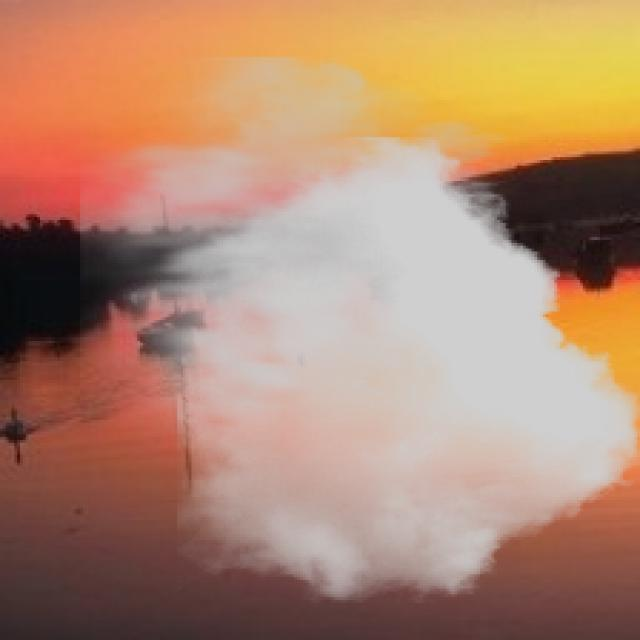Smoke: (80, 57, 637, 606)
